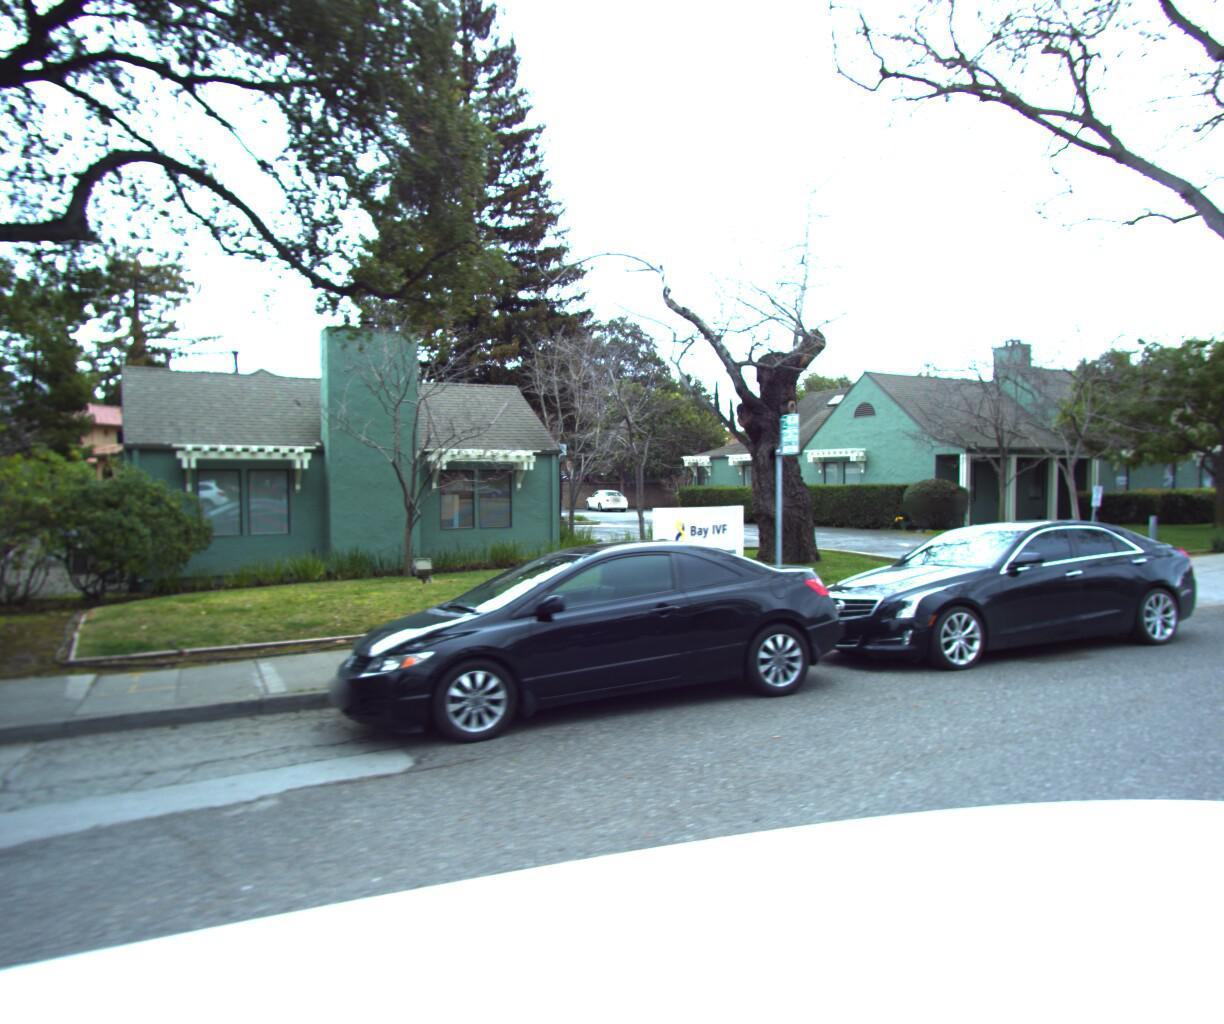car: (305, 524, 867, 775), (792, 505, 1224, 689)
